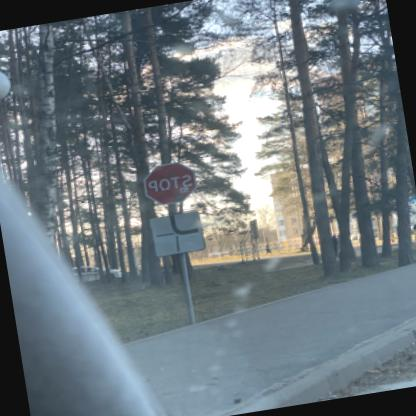stop: (142, 158, 200, 206)
